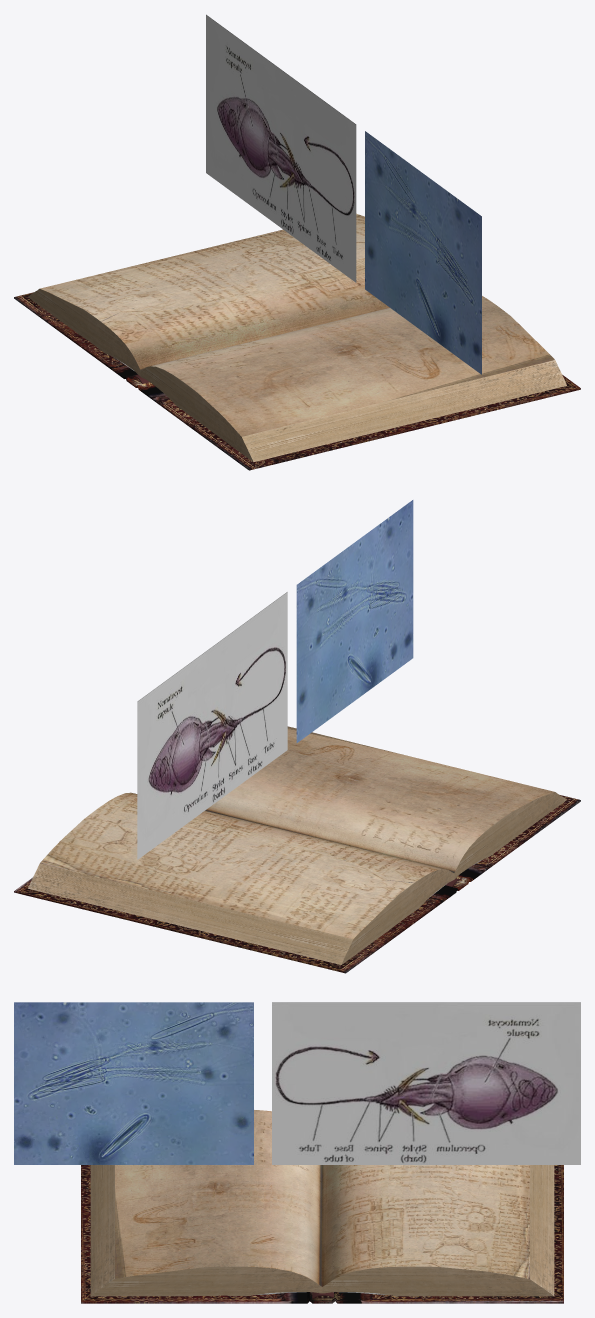
The model's file is nematocyst.glb.
3 renders of one model, top to bottom at view 1: azimuth 30°, elevation 25°; view 2: azimuth 150°, elevation 25°; view 3: azimuth 270°, elevation 25°, orthographic. The views are drawn at different scales.
Parts seen in each view (by area): view 1: polySurface23, nematocyst_part 2, nematocyst_background, polySurface21; view 2: polySurface23, nematocyst_part 2, nematocyst_background, polySurface21; view 3: polySurface23, nematocyst_part 2, nematocyst_background, polySurface21.
Boxes of the visible parts, x1,y1,x2,y2 form: polySurface23: [28, 213, 566, 462]; nematocyst_part 2: [206, 14, 356, 282]; nematocyst_background: [365, 131, 481, 374]; polySurface21: [14, 292, 580, 470]; polySurface23: [28, 726, 566, 964]; nematocyst_part 2: [137, 592, 287, 859]; nematocyst_background: [296, 500, 413, 742]; polySurface21: [14, 795, 580, 973]; polySurface23: [90, 1110, 554, 1296]; nematocyst_part 2: [272, 1002, 580, 1164]; nematocyst_background: [14, 1002, 253, 1164]; polySurface21: [81, 1165, 563, 1303].
Bounding box in the file's own units: 3.06 × 2.02 × 4.41.
Materials: 7 (5 with a texture image).
